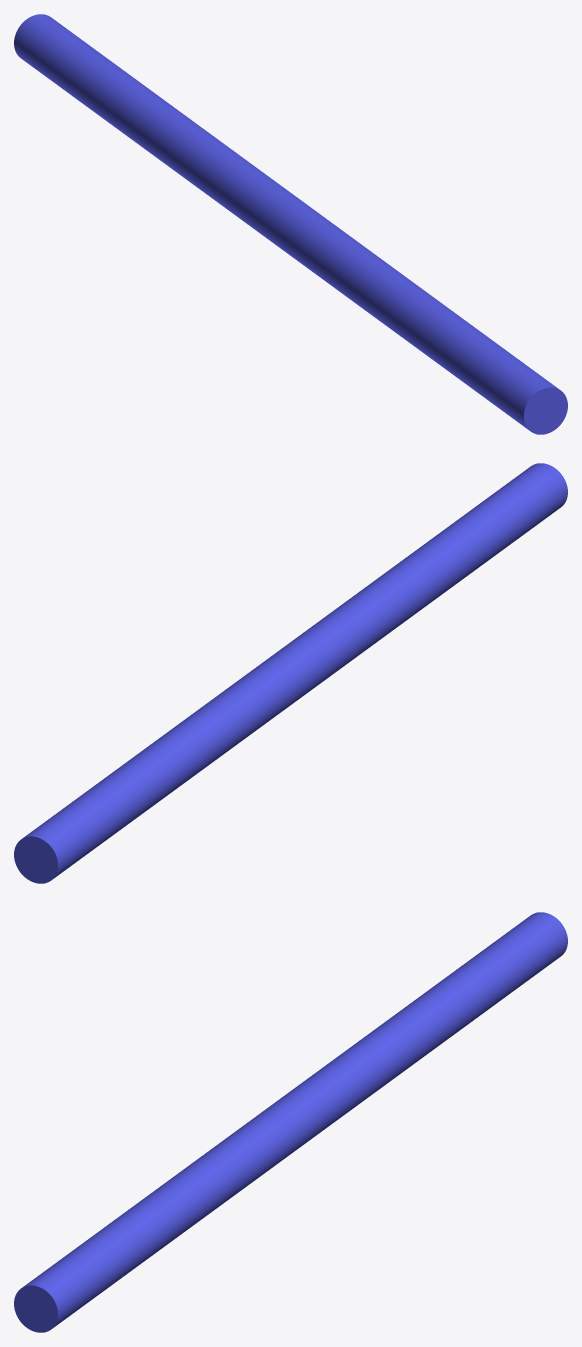
The model's file is littlecylinder.fbx.
3 renders of one model, top to bottom at view 1: azimuth 30°, elevation 25°; view 2: azimuth 150°, elevation 25°; view 3: azimuth 330°, elevation 25°, orthographic.
Visible parts, largest first — view 1: littlecylinder; view 2: littlecylinder; view 3: littlecylinder.
Boxes of the visible parts, box(x1,y1,x2,y2) form: littlecylinder: box(14, 14, 567, 434); littlecylinder: box(14, 463, 567, 883); littlecylinder: box(14, 912, 567, 1332).
Bounding box in the file's own units: 0.25 × 0.25 × 5.
